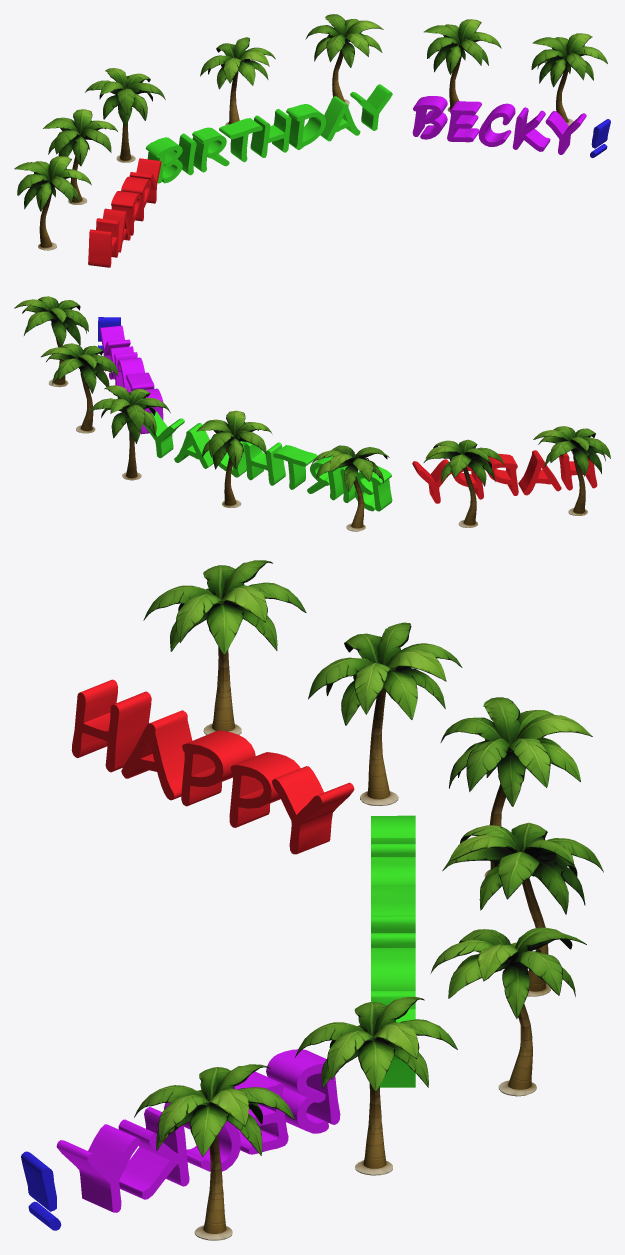
The model's file is birthday.glb.
3 renders of one model, top to bottom at view 1: azimuth 30°, elevation 25°; view 2: azimuth 150°, elevation 25°; view 3: azimuth 270°, elevation 25°, orthographic. The views are drawn at different scales.
Parts seen in each view (by area): view 1: object; view 2: object; view 3: object.
Boxes of the visible parts, x1,y1,x2,y2 form: object: [14, 14, 610, 267]; object: [14, 296, 610, 531]; object: [21, 560, 603, 1240].
Size of the model in its own units: 0.0946 by 0.0126 by 0.0409.
Materials: 5 (1 with a texture image).
